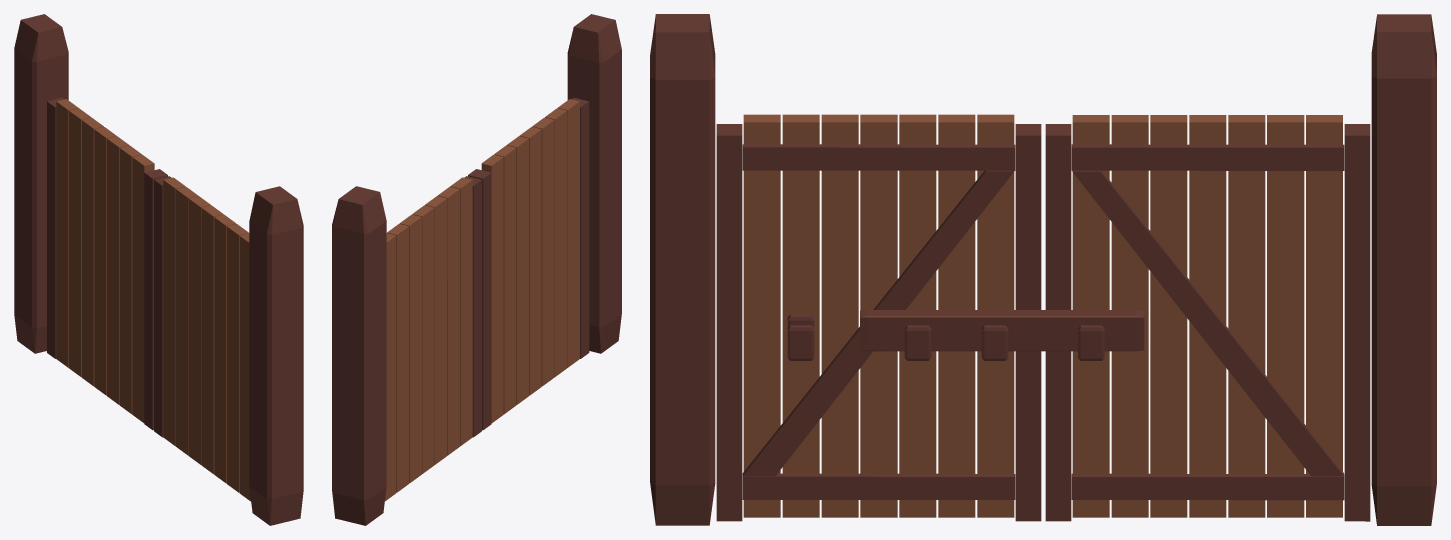
The model's file is gate_01.fbx.
The picture shows the model from 3 angles, left to right: view 1: azimuth 30°, elevation 25°; view 2: azimuth 150°, elevation 25°; view 3: azimuth 270°, elevation 25°; orthographic projection. The views are drawn at different scales.
Visible parts, largest first — view 1: gate right, gate left, stand left, stand right; view 2: gate left, gate right, stand right, stand left; view 3: gate right, gate left, stand right, stand left, balk.
Part boxes in pixels (bbox=[...]): gate right: bbox=[47, 97, 167, 430]; gate left: bbox=[154, 176, 251, 501]; stand left: bbox=[249, 186, 303, 525]; stand right: bbox=[14, 14, 68, 353]; gate left: bbox=[468, 97, 589, 430]; gate right: bbox=[385, 176, 481, 501]; stand right: bbox=[332, 186, 386, 525]; stand left: bbox=[567, 14, 621, 353]; gate right: bbox=[1045, 115, 1370, 521]; gate left: bbox=[716, 114, 1041, 521]; stand right: bbox=[1371, 14, 1436, 525]; stand left: bbox=[650, 14, 715, 525]; balk: bbox=[860, 310, 1144, 351].
Bounding box in the file's own units: 227 × 1654 × 2401.
